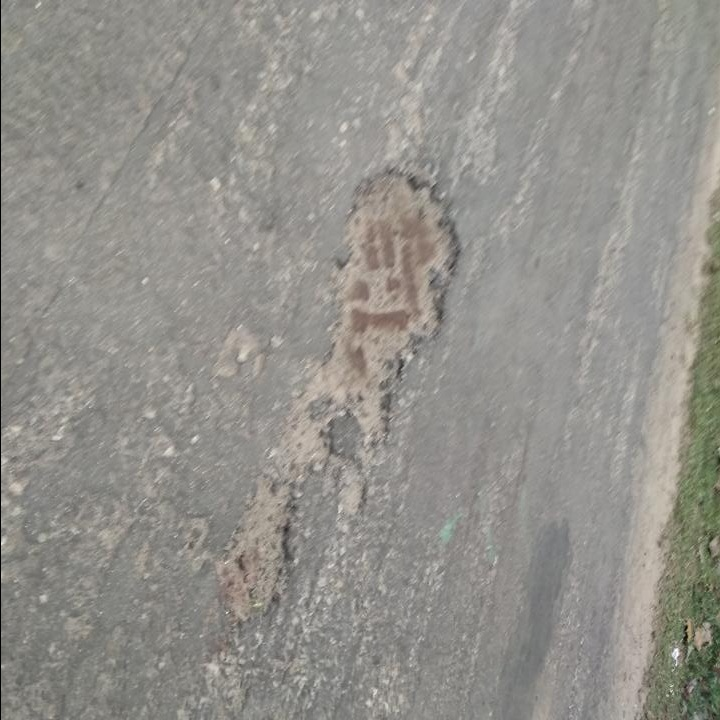pothole: (277, 160, 468, 472), (215, 470, 303, 629)
